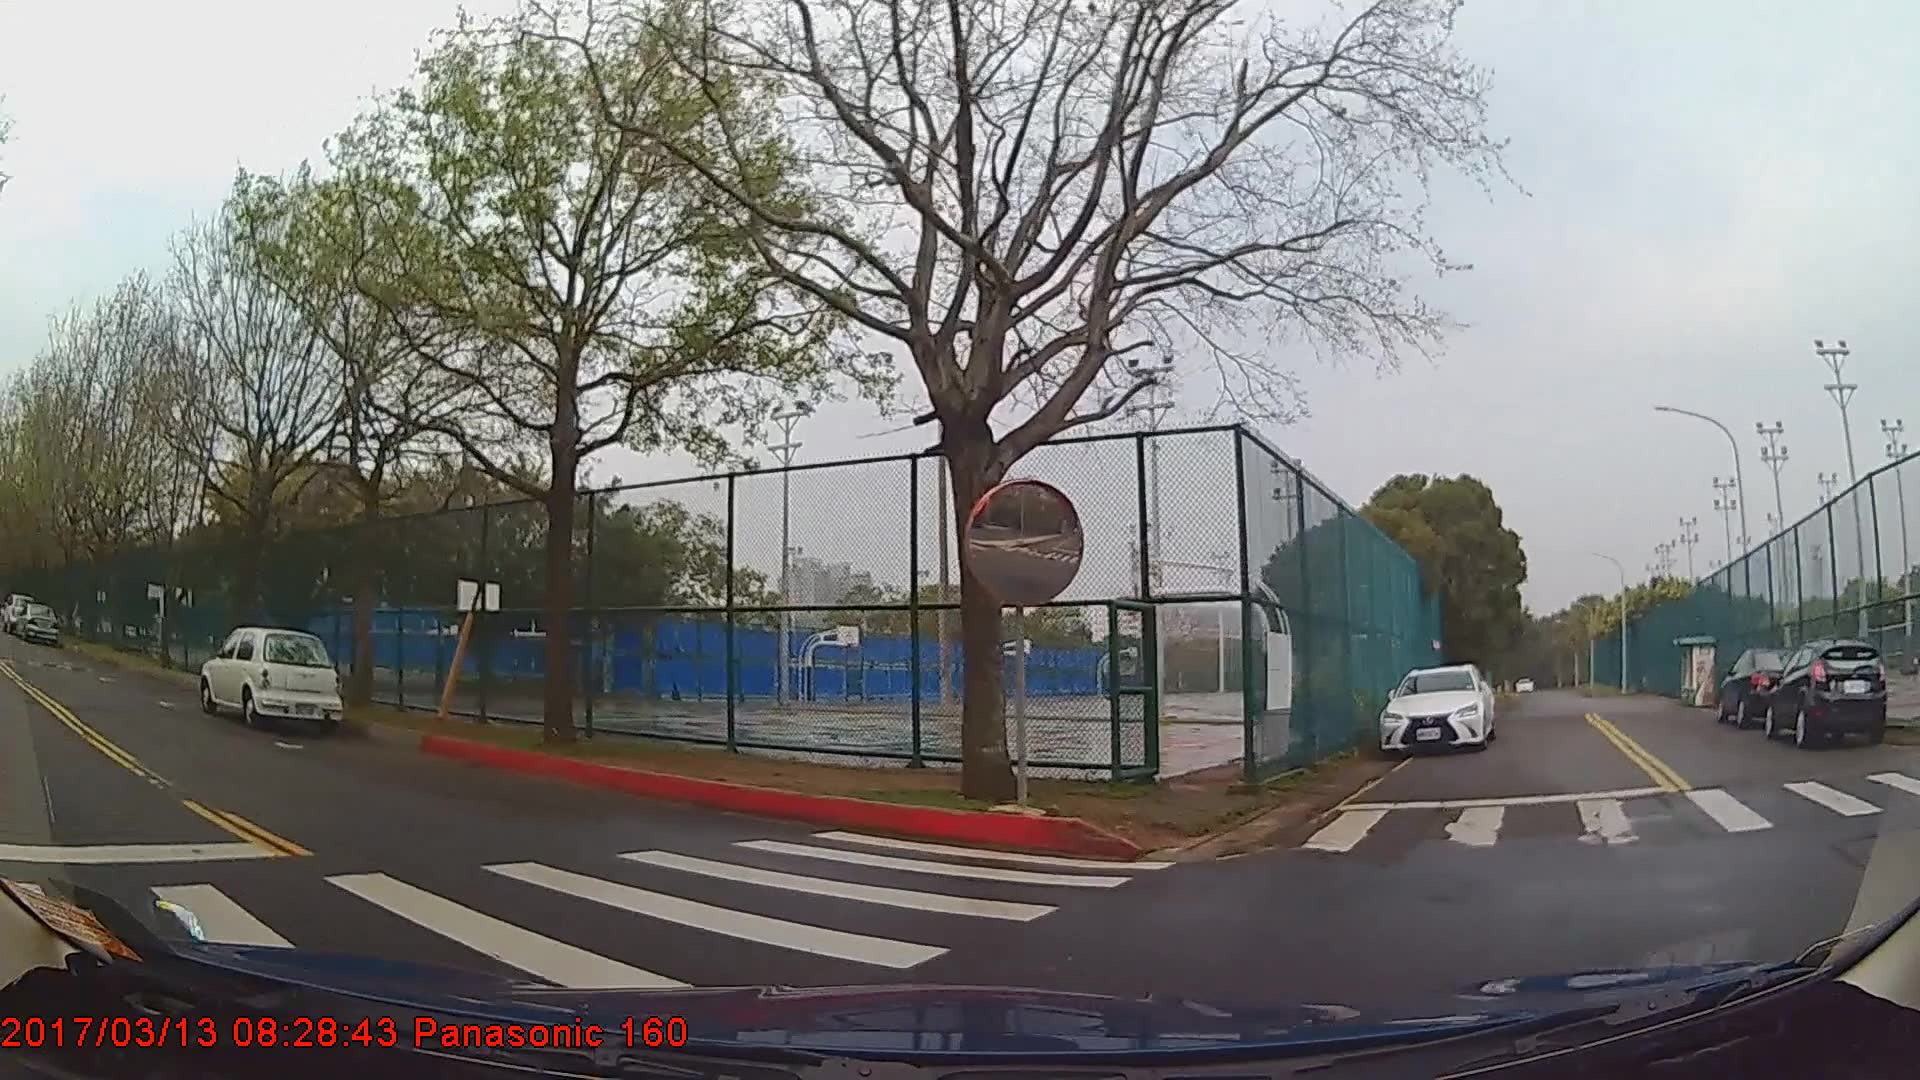vehicle: (196, 625, 345, 727), (1763, 637, 1887, 745), (1375, 662, 1495, 756), (1717, 644, 1813, 724), (15, 603, 61, 646)
